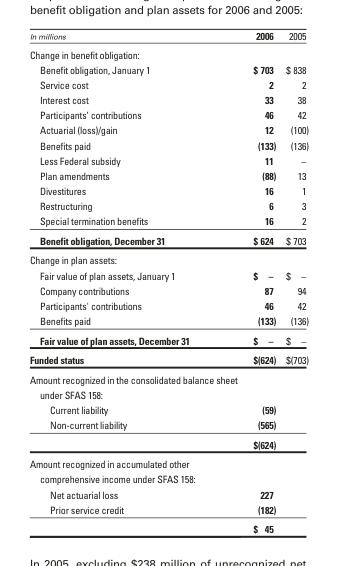table: (28, 28, 308, 534)
table column: (28, 28, 220, 534), (220, 28, 280, 534), (280, 28, 308, 534)
table column header: (28, 28, 308, 44)
table projected row header: (28, 453, 308, 486), (28, 369, 308, 401), (28, 249, 308, 267), (28, 44, 308, 61)
table row: (28, 453, 308, 486), (28, 369, 308, 401), (28, 349, 308, 369), (28, 230, 308, 249), (28, 330, 308, 349), (28, 434, 308, 453), (28, 212, 308, 230), (28, 249, 308, 267), (28, 312, 308, 330), (28, 416, 308, 434), (28, 44, 308, 61), (28, 501, 308, 518), (28, 28, 308, 44), (28, 106, 308, 122), (28, 518, 308, 534), (28, 61, 308, 76), (28, 76, 308, 91), (28, 91, 308, 106), (28, 122, 308, 137), (28, 137, 308, 152), (28, 152, 308, 167), (28, 167, 308, 182), (28, 182, 308, 197), (28, 197, 308, 212), (28, 267, 308, 282), (28, 282, 308, 297), (28, 297, 308, 312), (28, 401, 308, 416), (28, 486, 308, 501)
